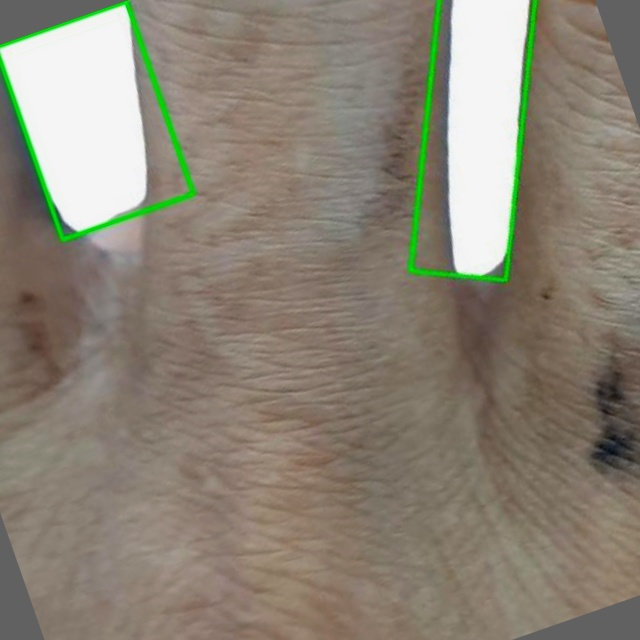Scabies: (0, 1, 193, 239), (411, 0, 536, 280)
